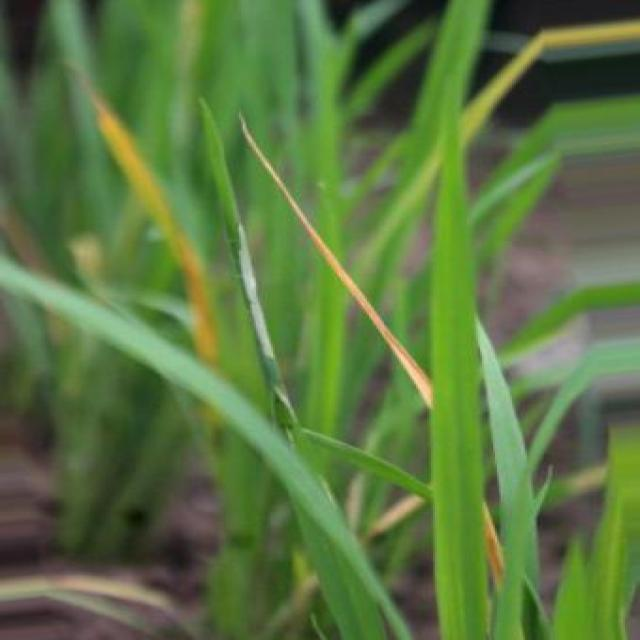Rice Tungro: (243, 119, 433, 407), (93, 93, 218, 362), (485, 503, 504, 586)
